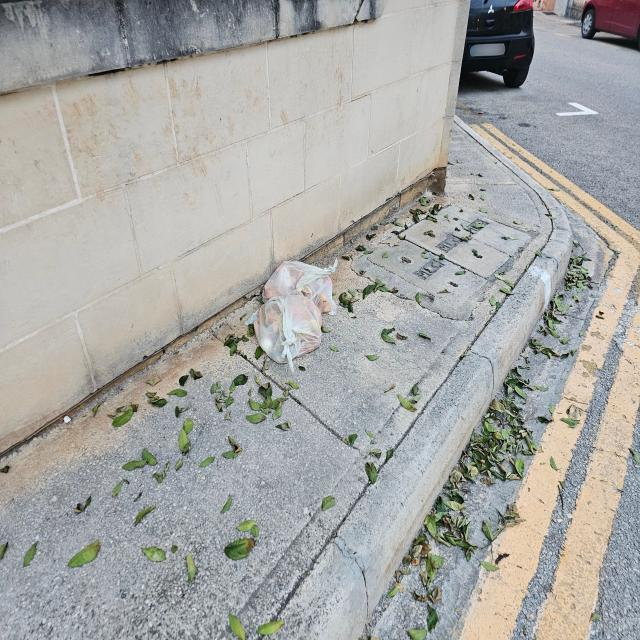white_bag: (246, 289, 324, 373), (263, 260, 343, 314)
